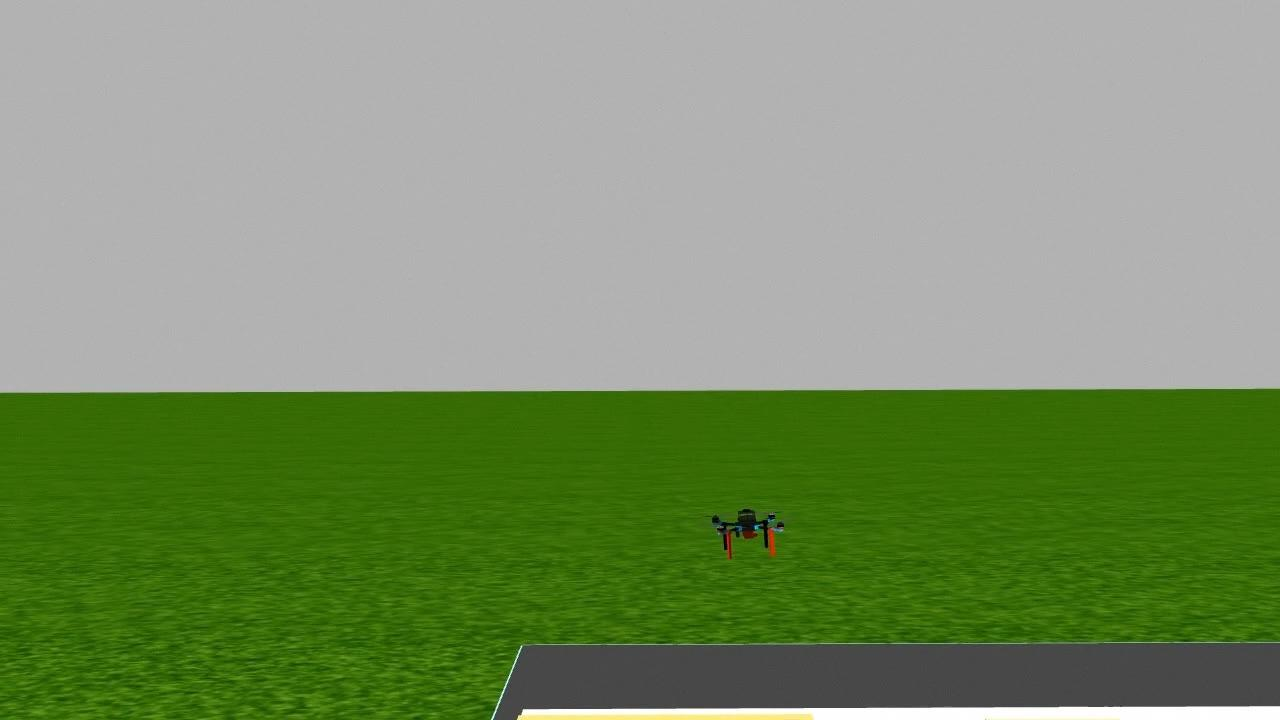UAV: (700, 494, 796, 574)
